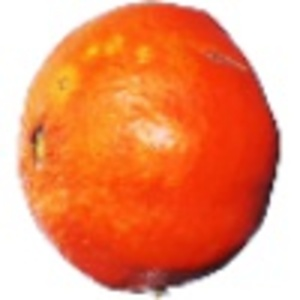tangerina: (14, 1, 284, 300)
